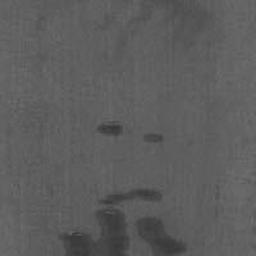Oil spot: (58, 188, 163, 256), (127, 0, 214, 52), (134, 216, 187, 256), (97, 122, 123, 136), (145, 133, 164, 143)
